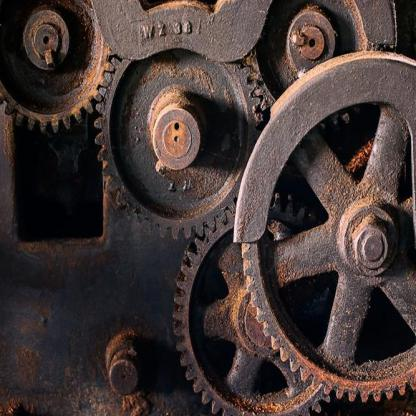FOD: (92, 22, 265, 243), (170, 202, 326, 416), (239, 243, 415, 404), (0, 43, 115, 138)
